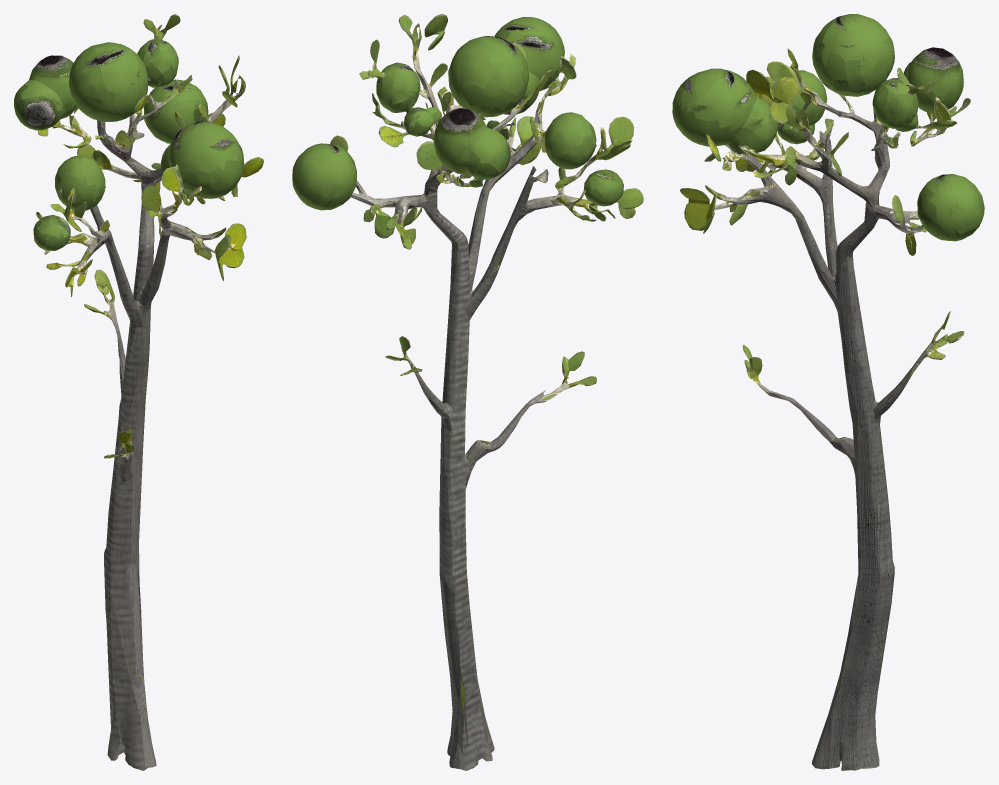
The model's file is Birch.glb.
The picture shows the model from 3 angles, left to right: view 1: azimuth 30°, elevation 25°; view 2: azimuth 150°, elevation 25°; view 3: azimuth 270°, elevation 25°; orthographic projection. The views are drawn at different scales.
Bounding box in the file's own units: 2.51 × 7 × 2.69.
Materials: 1 (1 with a texture image).
